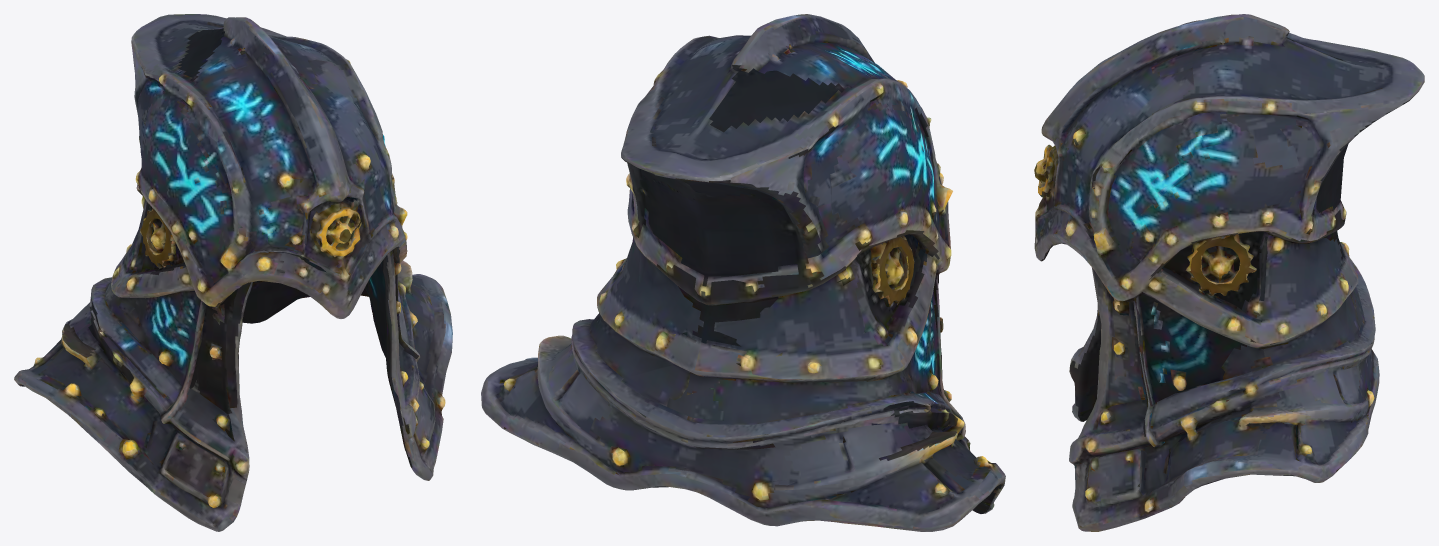
The model's file is artifice-elmo.glb.
3 renders of one model, left to right at view 1: azimuth 30°, elevation 25°; view 2: azimuth 150°, elevation 25°; view 3: azimuth 270°, elevation 25°, orthographic. The views are drawn at different scales.
Parts seen in each view (by area): view 1: tripo_node_33bcd201-bd58-4ee7-9f5b-8f406ac6eeaf; view 2: tripo_node_33bcd201-bd58-4ee7-9f5b-8f406ac6eeaf; view 3: tripo_node_33bcd201-bd58-4ee7-9f5b-8f406ac6eeaf.
Part boxes in pixels (bbox=[...]): tripo_node_33bcd201-bd58-4ee7-9f5b-8f406ac6eeaf: bbox=[14, 14, 452, 531]; tripo_node_33bcd201-bd58-4ee7-9f5b-8f406ac6eeaf: bbox=[481, 14, 1005, 531]; tripo_node_33bcd201-bd58-4ee7-9f5b-8f406ac6eeaf: bbox=[1034, 14, 1424, 531].
Size of the model in its own units: 0.9757 by 0.9726 by 0.7462.
1 material, 1 textured.
